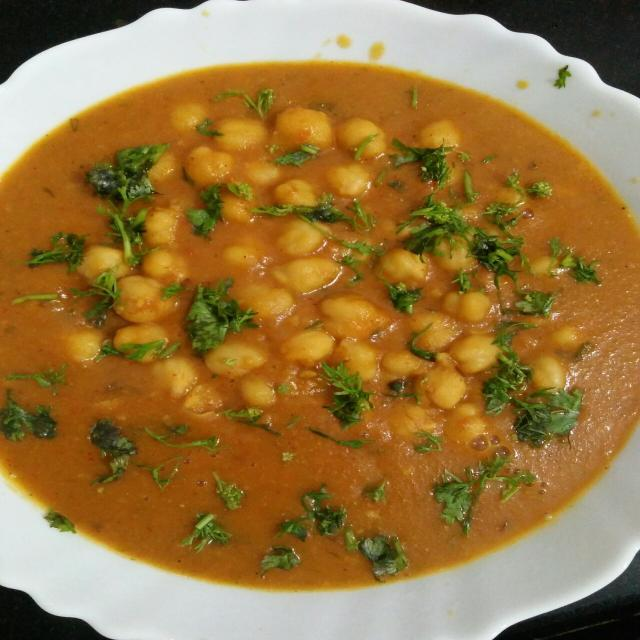Chole: (0, 61, 637, 588)
